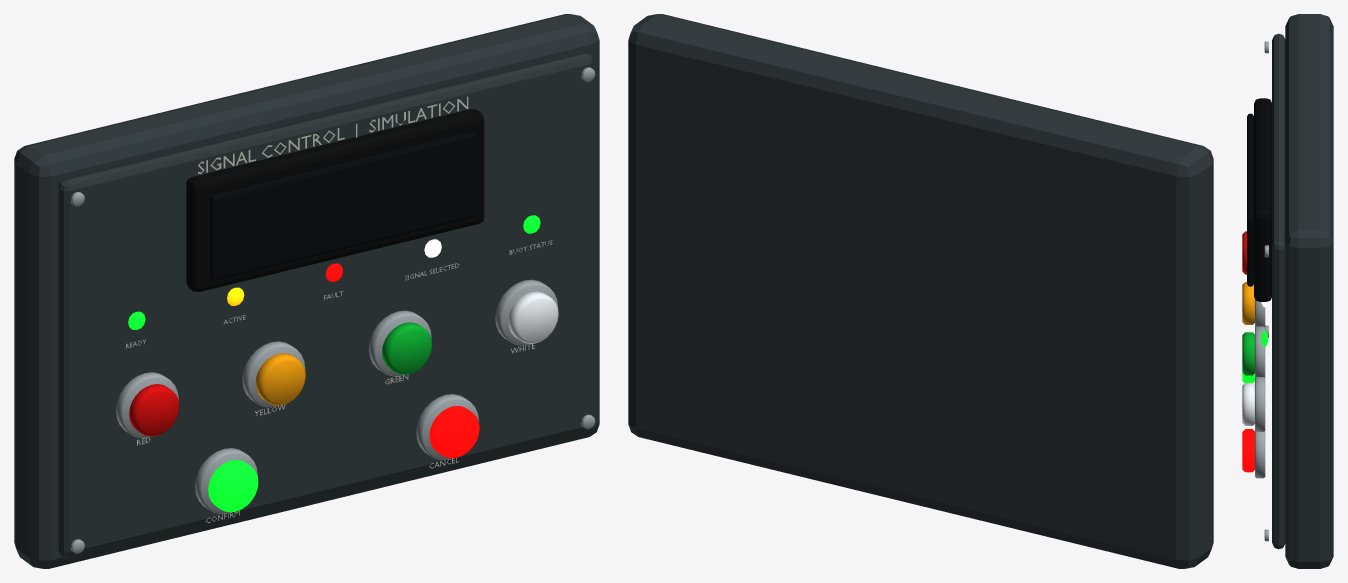
The model's file is control_panel.glb.
3 views of the same model, side by side, from view 1: azimuth 30°, elevation 25°; view 2: azimuth 150°, elevation 25°; view 3: azimuth 270°, elevation 25° (orthographic). The views are drawn at different scales.
Visible parts, largest first — view 1: PANEL_FRONT_PLATE, PANEL_BACKBOX, DISPLAY_DARK_GLASS, DISPLAY_FRAME, BUTTON_RED, BUTTON_YELLOW, BUTTON_CANCEL, BUTTON_CONFIRM, BUTTON_GREEN, BUTTON_WHITE, BUTTON_YELLOW_RING, BUTTON_CONFIRM_RING (+5 smaller); view 2: PANEL_BACKBOX; view 3: PANEL_BACKBOX, PANEL_FRONT_PLATE, DISPLAY_FRAME, DISPLAY_DARK_GLASS, BUTTON_WHITE_RING, BUTTON_CANCEL, BUTTON_GREEN, BUTTON_WHITE, BUTTON_CANCEL_RING, BUTTON_YELLOW, BUTTON_GREEN_RING, BUTTON_YELLOW_RING (+1 smaller).
Part boxes in pixels (x1,y1,x2,y2): PANEL_FRONT_PLATE: (58,53,593,556); PANEL_BACKBOX: (14,14,599,568); DISPLAY_DARK_GLASS: (210,132,475,280); DISPLAY_FRAME: (186,109,484,291); BUTTON_RED: (129,384,179,436); BUTTON_YELLOW: (255,353,305,405); BUTTON_CANCEL: (429,406,479,458); BUTTON_CONFIRM: (208,460,258,512); BUTTON_GREEN: (382,322,432,374); BUTTON_WHITE: (508,291,558,343); BUTTON_YELLOW_RING: (242,341,305,407); BUTTON_CONFIRM_RING: (195,448,257,513); PANEL_BACKBOX: (628,14,1213,568); PANEL_BACKBOX: (1285,14,1333,568); PANEL_FRONT_PLATE: (1272,33,1285,549); DISPLAY_FRAME: (1254,98,1271,301); DISPLAY_DARK_GLASS: (1247,113,1253,286); BUTTON_WHITE_RING: (1255,377,1265,431); BUTTON_CANCEL: (1242,429,1254,472); BUTTON_GREEN: (1242,332,1254,375); BUTTON_WHITE: (1242,383,1254,425); BUTTON_CANCEL_RING: (1255,431,1265,478); BUTTON_YELLOW: (1242,282,1254,324); BUTTON_GREEN_RING: (1255,326,1265,377); BUTTON_YELLOW_RING: (1255,299,1265,327).
Bounding box in the file's own units: 0.72 × 0.5 × 0.1225.
